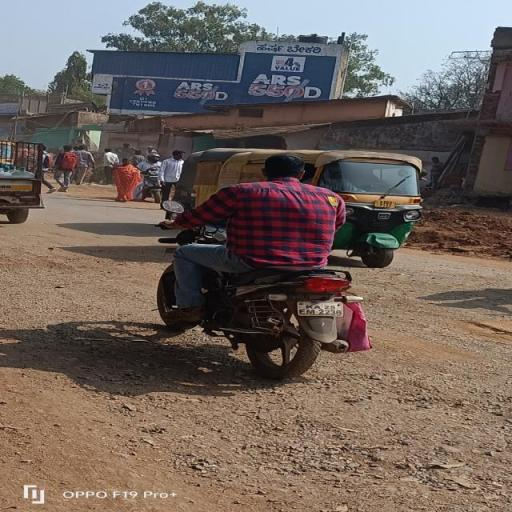bike: (148, 148, 386, 386)
numberplate: (299, 302, 345, 318)
withouthelmet: (266, 154, 304, 178)
